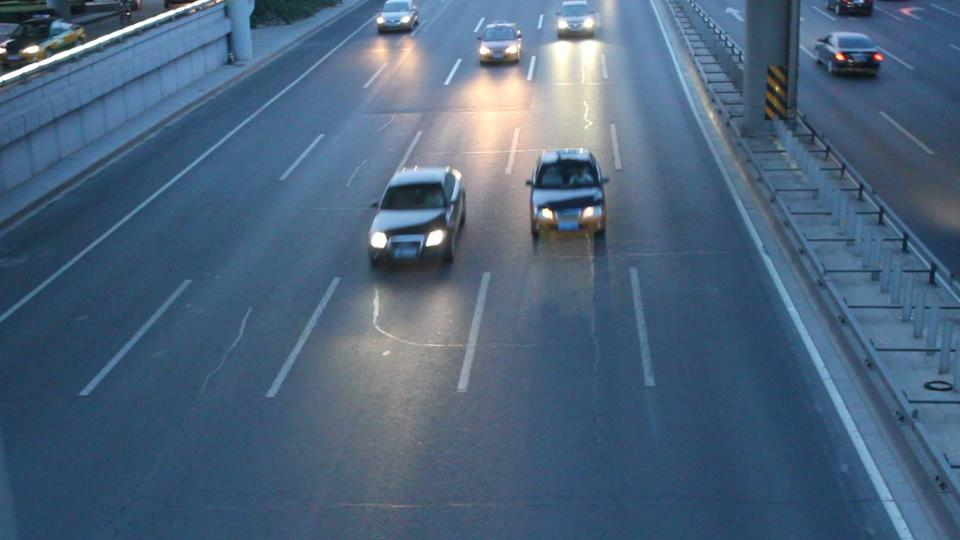car: (371, 169, 462, 267), (528, 149, 607, 238), (813, 31, 887, 78), (474, 21, 526, 64), (553, 1, 600, 39), (375, 0, 418, 34)
